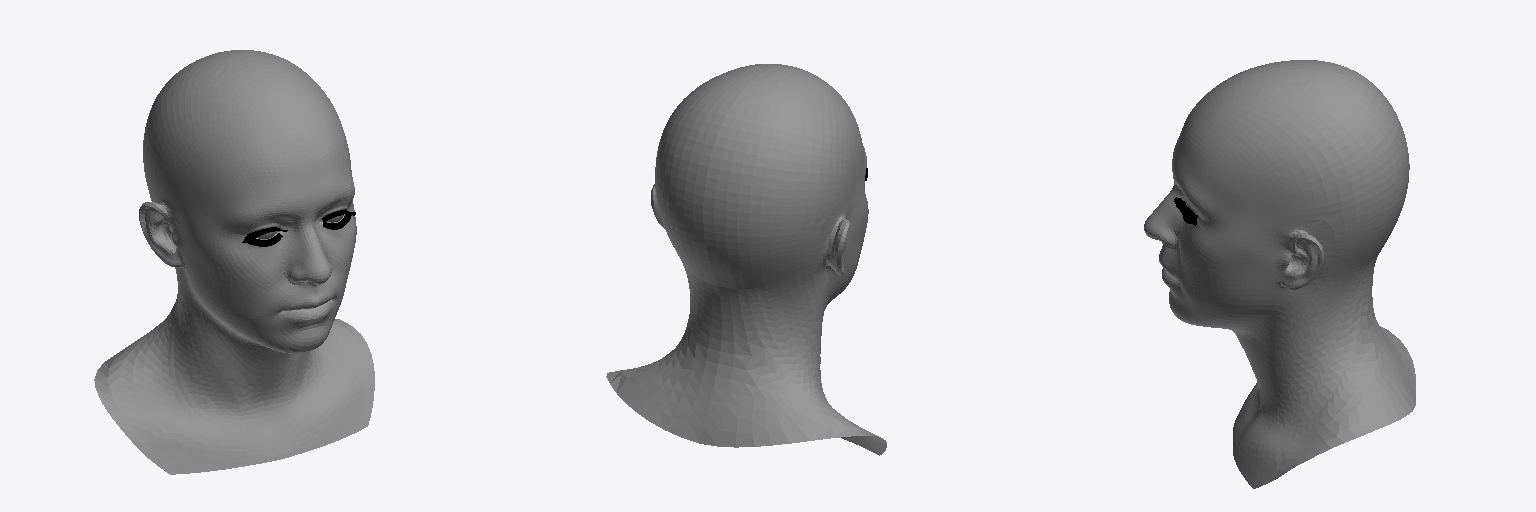
Rendered from identity074.obj.
The picture shows the model from 3 angles: view 1: azimuth 30°, elevation 25°; view 2: azimuth 150°, elevation 25°; view 3: azimuth 270°, elevation 25°; orthographic projection.
Size of the model in its own units: 24.87 by 33.78 by 22.34.